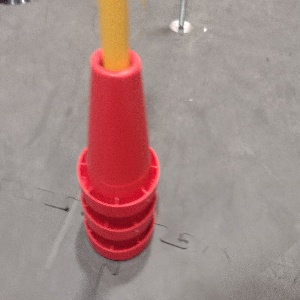Red_3: (75, 47, 160, 260)
